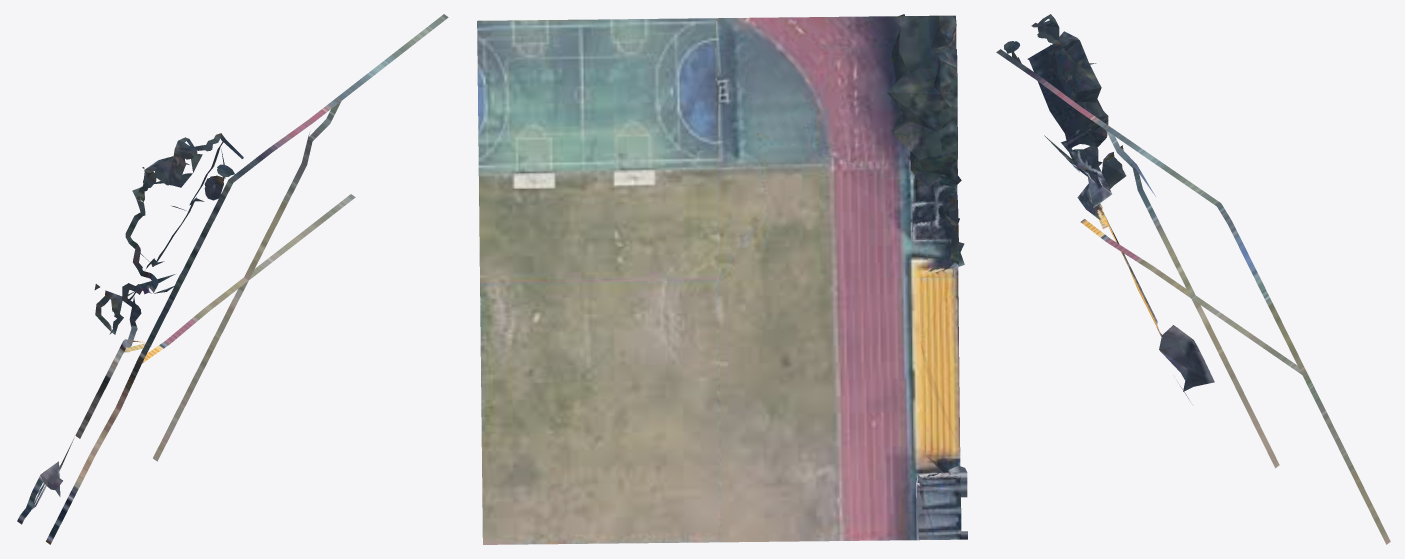
The picture shows the model from 3 angles, left to right: view 1: azimuth 30°, elevation 25°; view 2: azimuth 150°, elevation 25°; view 3: azimuth 270°, elevation 25°; orthographic projection. The views are drawn at different scales.
Bounding box in the file's own units: 79.95 × 73.79 × 64.39.
Materials: 1 (1 with a texture image).
